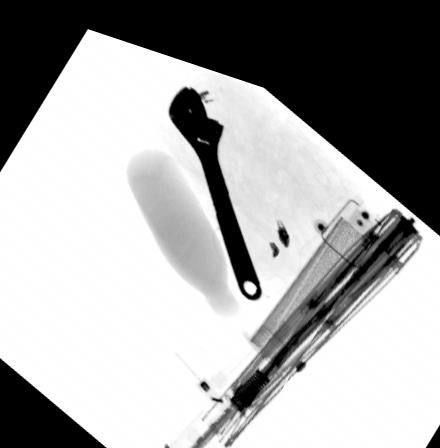Wrench: (165, 70, 265, 287)
